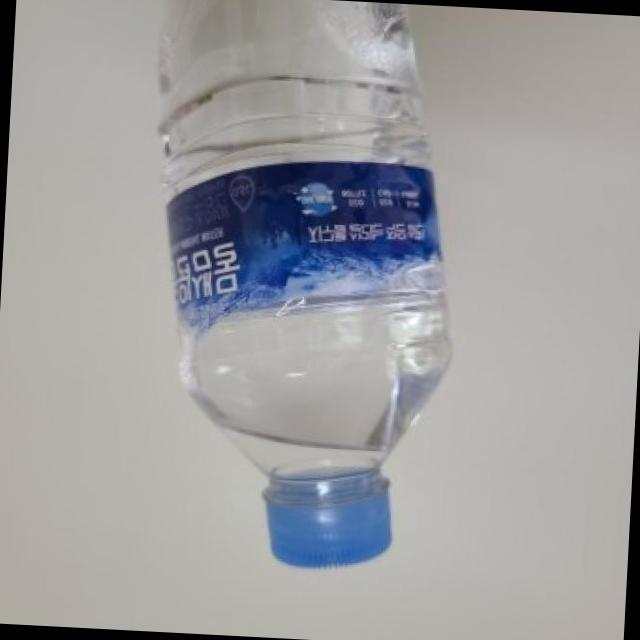plastic_bottle: (134, 0, 469, 575)
